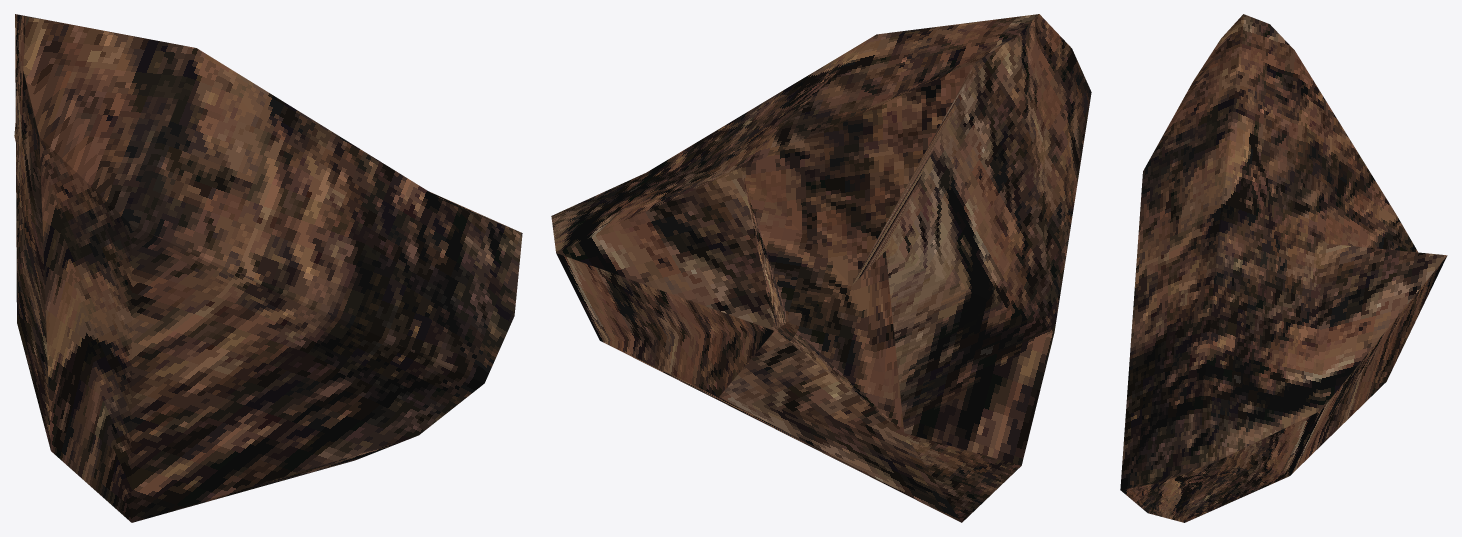
File: stage-gran-p4-11.glb
3 renders of one model, left to right at view 1: azimuth 30°, elevation 25°; view 2: azimuth 150°, elevation 25°; view 3: azimuth 270°, elevation 25°, orthographic. The views are drawn at different scales.
Size of the model in its own units: 24.67 by 24.45 by 17.41.
Materials: 1 (1 with a texture image).
